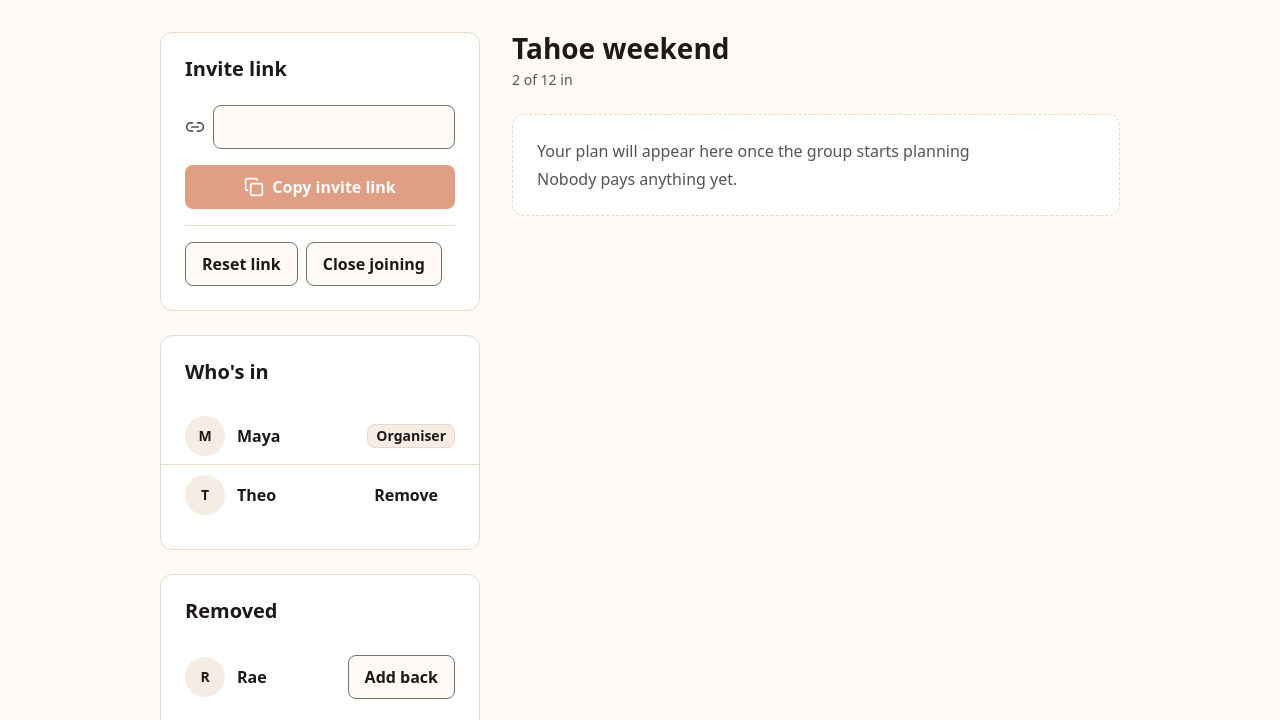
Scenario: TripPage membership controls › lists removed members and adds one back
The width and height of the screenshot is (1280, 720).
Expected: the heading "Removed" is shown, [185,597,278,624]
Click the button "Add back" at (401, 677), box [348,655,455,699]
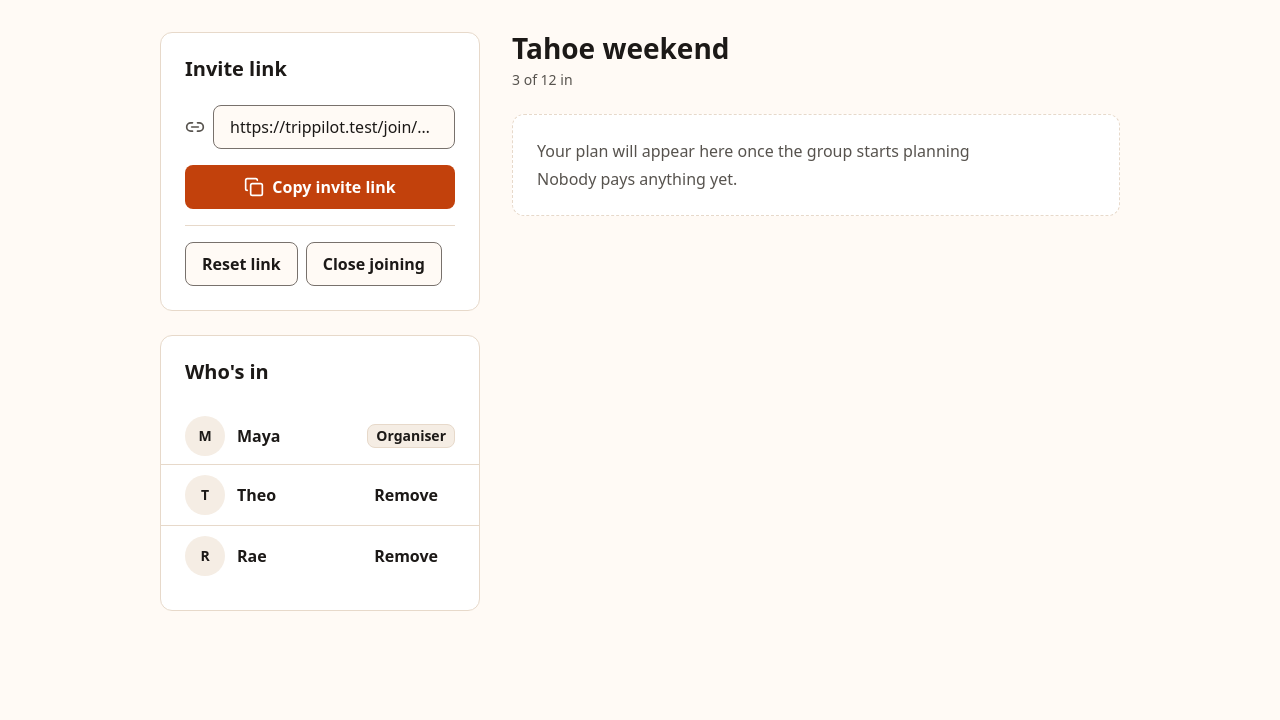
Expected: the text "Rae" is shown, [237,545,267,567]
Expected: the heading "Removed" is gone
Expected: the text "3 of 12 in" is shown, [512,70,572,89]
